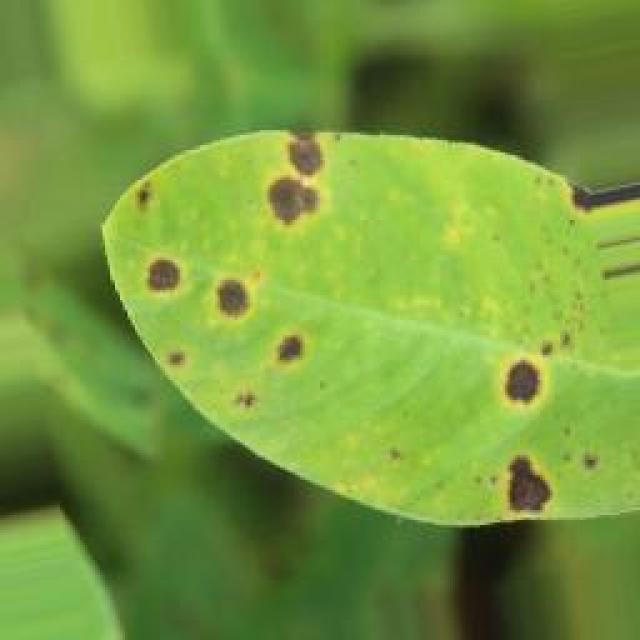Early_leaf_spot: (243, 120, 342, 234), (478, 427, 578, 538), (542, 154, 630, 248), (486, 333, 567, 428), (193, 246, 271, 332), (199, 352, 268, 426), (111, 243, 197, 295), (111, 149, 166, 226), (139, 329, 203, 383), (253, 308, 310, 366)
